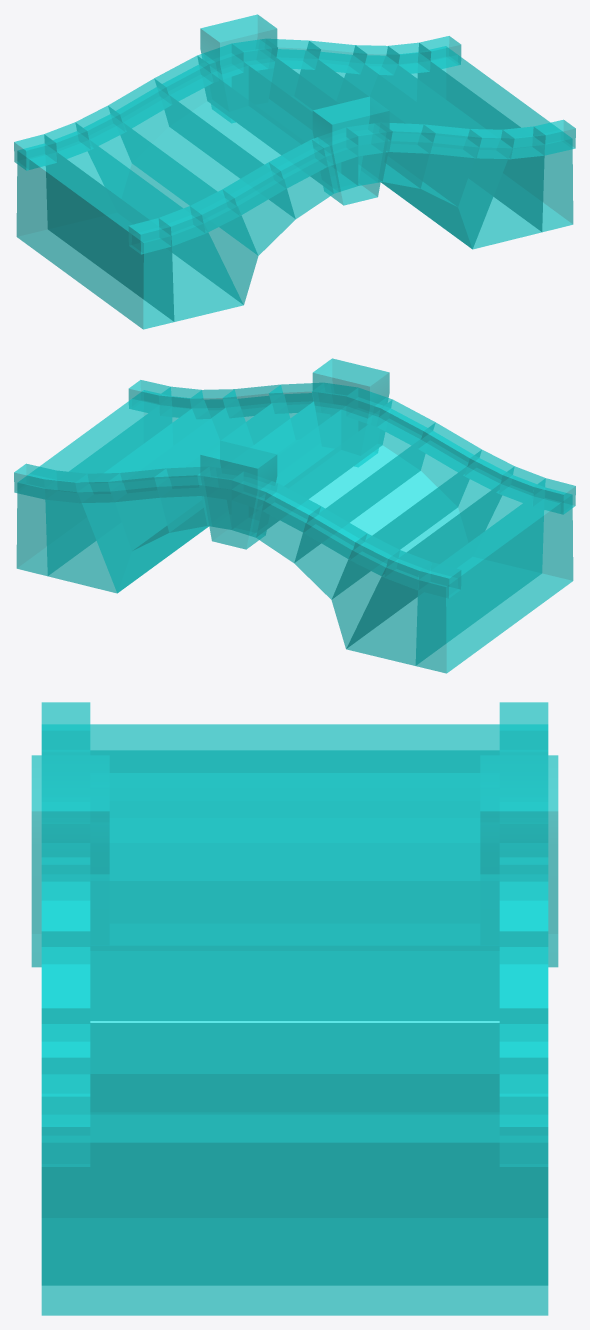
Rendered from SM_Bld_Bridge_01_Collision.fbx.
The picture shows the model from 3 angles, top to bottom: view 1: azimuth 30°, elevation 25°; view 2: azimuth 150°, elevation 25°; view 3: azimuth 270°, elevation 25°; orthographic projection. The views are drawn at different scales.
Visible parts, largest first — view 1: SM_Bld_Bridge_01_Collision; view 2: SM_Bld_Bridge_01_Collision; view 3: SM_Bld_Bridge_01_Collision.
Boxes of the visible parts, x1=… form: SM_Bld_Bridge_01_Collision: x1=14, y1=14, x2=575, y2=329; SM_Bld_Bridge_01_Collision: x1=14, y1=358, x2=575, y2=673; SM_Bld_Bridge_01_Collision: x1=31, y1=702, x2=558, y2=1315.
Bounding box in the file's own units: 1013 × 359 × 531.
